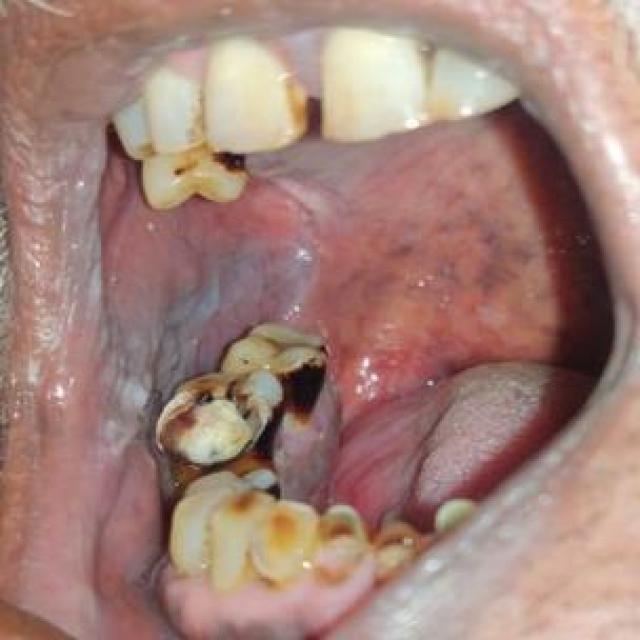leukoplakia-detection: (93, 232, 320, 479)
processing_area: (51, 108, 553, 638)
